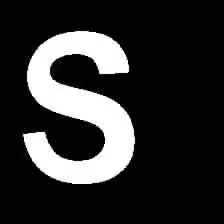LTR_S: (5, 21, 144, 191)
